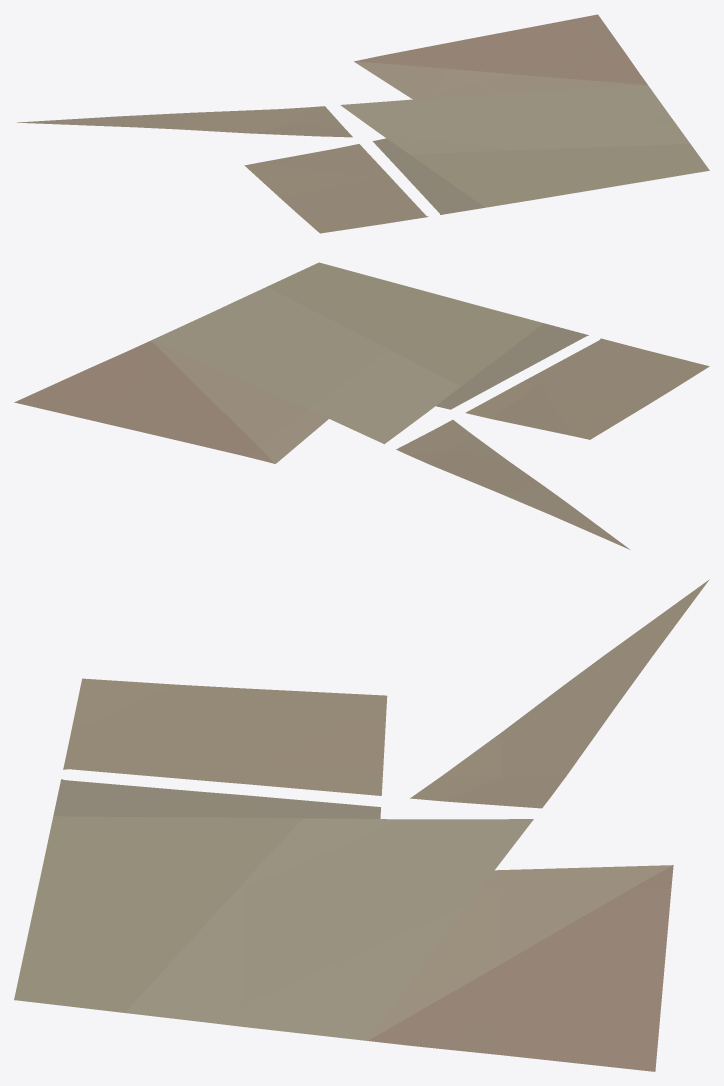
Rendered from farm_5_18_soil.glb.
3 views of the same model, one above another, from view 1: azimuth 30°, elevation 25°; view 2: azimuth 150°, elevation 25°; view 3: azimuth 270°, elevation 25° (orthographic). The views are drawn at different scales.
Parts seen in each view (by area): view 1: geometry_0; view 2: geometry_0; view 3: geometry_0.
Part boxes in pixels (bbox=[...]): geometry_0: bbox=[17, 14, 709, 233]; geometry_0: bbox=[14, 262, 709, 549]; geometry_0: bbox=[14, 579, 709, 1071].
Size of the model in its own units: 339 by 10.44 by 216.
